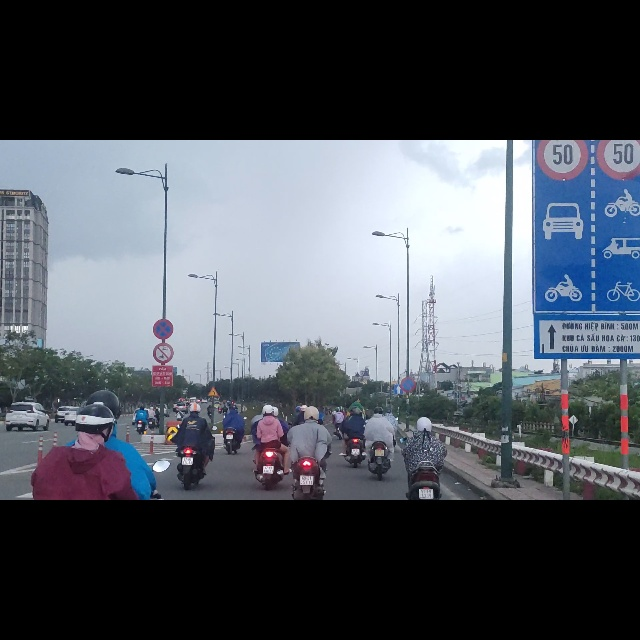bien_chi_dan: (535, 73, 640, 313), (535, 1, 588, 72), (595, 2, 640, 72), (152, 317, 174, 354), (153, 361, 174, 397), (401, 421, 416, 449), (208, 437, 219, 456), (393, 434, 403, 452)
